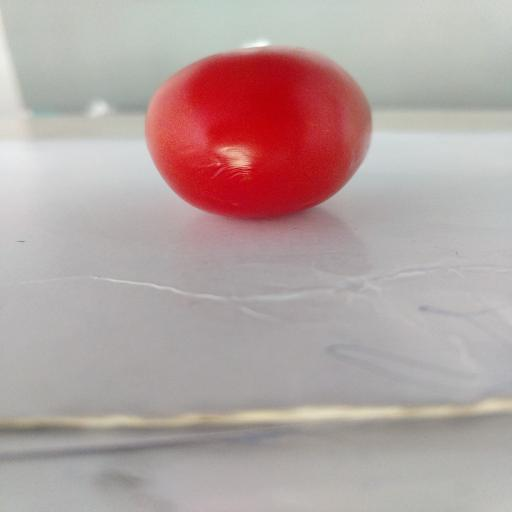ripe: (146, 46, 371, 217)
